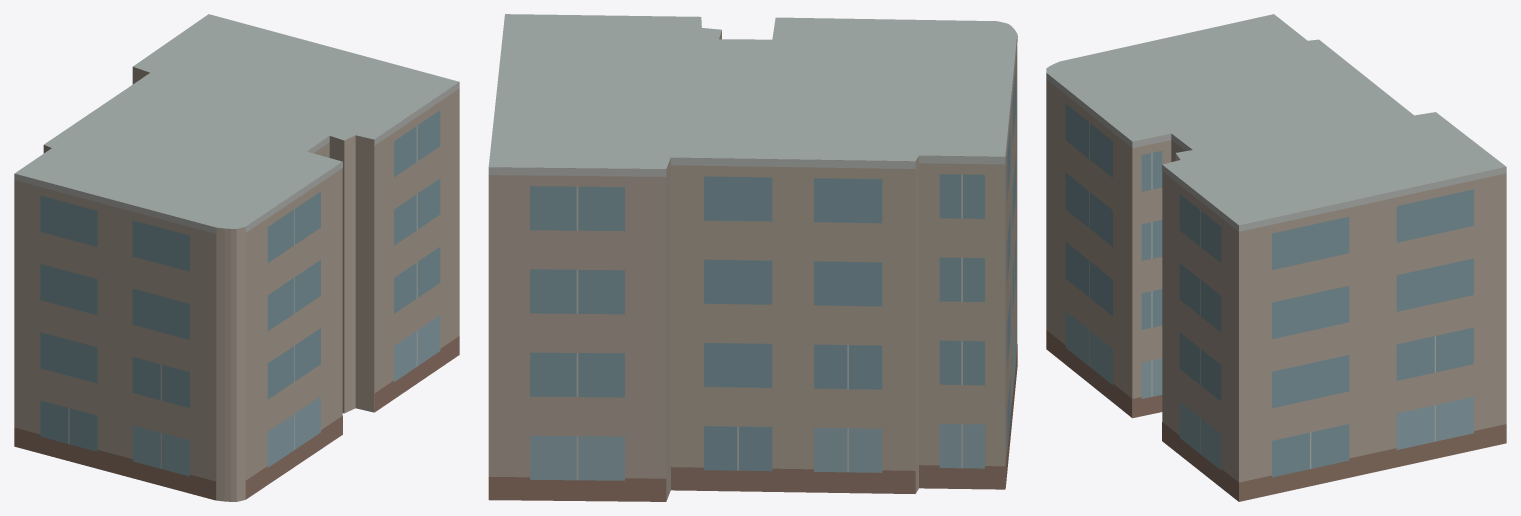
File: survey-upis-32971892.glb
3 views of the same model, side by side, from view 1: azimuth 30°, elevation 25°; view 2: azimuth 150°, elevation 25°; view 3: azimuth 270°, elevation 25° (orthographic). The views are drawn at different scales.
Parts seen in each view (by area): view 1: survey-upis-32971892.tmp; view 2: survey-upis-32971892.tmp; view 3: survey-upis-32971892.tmp.
Part boxes in pixels (box(x1,y1,x2,y2)): survey-upis-32971892.tmp: box(14, 14, 459, 501); survey-upis-32971892.tmp: box(488, 14, 1017, 501); survey-upis-32971892.tmp: box(1046, 14, 1506, 501).
Bounding box in the file's own units: 17.06 × 10.4 × 15.7.
